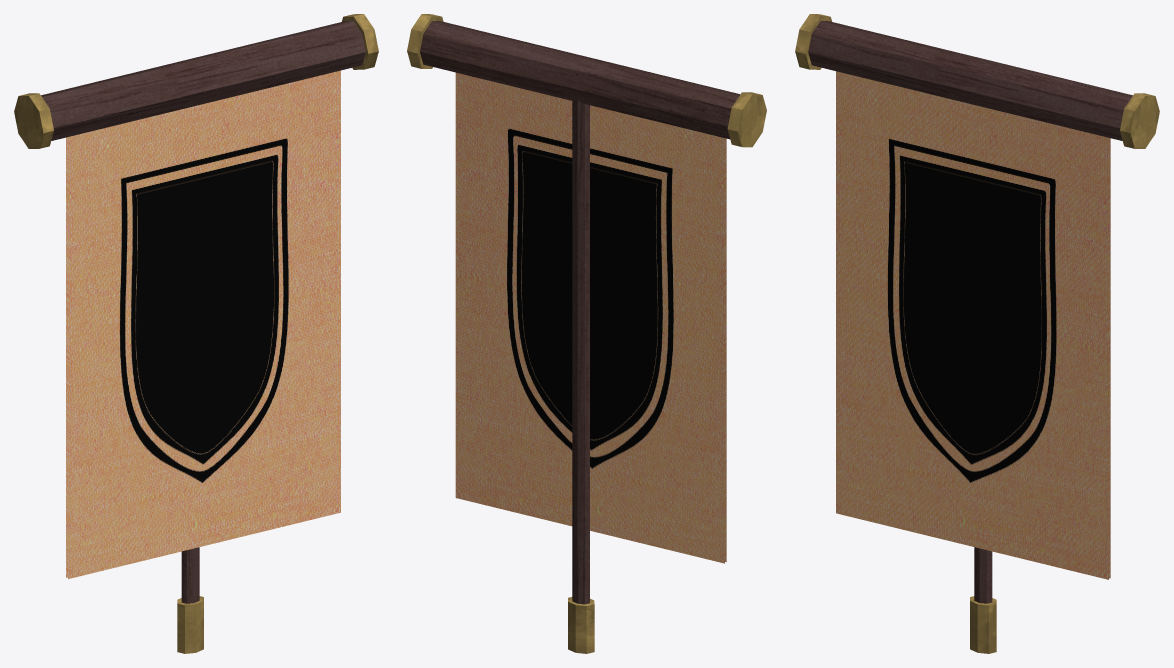
Rendered from flag_Lve_GEO_01.fbx.
3 renders of one model, left to right at view 1: azimuth 30°, elevation 25°; view 2: azimuth 150°, elevation 25°; view 3: azimuth 330°, elevation 25°, orthographic.
Parts seen in each view (by area): view 1: flag_GEO_01; view 2: flag_GEO_01; view 3: flag_GEO_01.
Boxes of the visible parts, x1,y1,x2,y2 form: flag_GEO_01: (14,14,378,653); flag_GEO_01: (407,14,766,653); flag_GEO_01: (795,14,1159,653).
Bounding box in the file's own units: 1.58 × 2.69 × 0.24.
4 materials, 3 textured.
